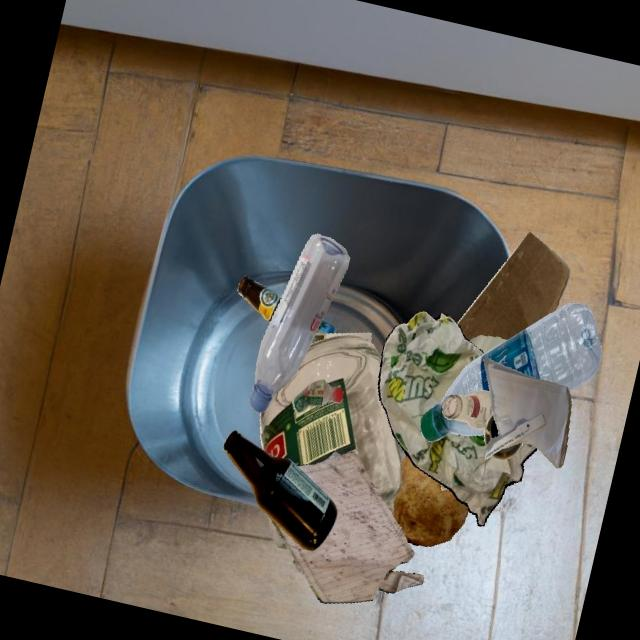biowaste: (392, 454, 468, 546)
cardboard: (456, 232, 570, 340)
glass: (260, 335, 401, 515), (222, 430, 336, 551), (237, 275, 281, 323), (442, 389, 492, 430), (491, 442, 522, 459), (483, 413, 498, 447)
paper: (377, 310, 537, 525), (268, 451, 423, 603), (482, 356, 571, 468), (310, 332, 371, 345), (468, 335, 507, 353)
plastic: (419, 303, 601, 442), (248, 233, 349, 412), (292, 379, 343, 413), (397, 440, 406, 460)
